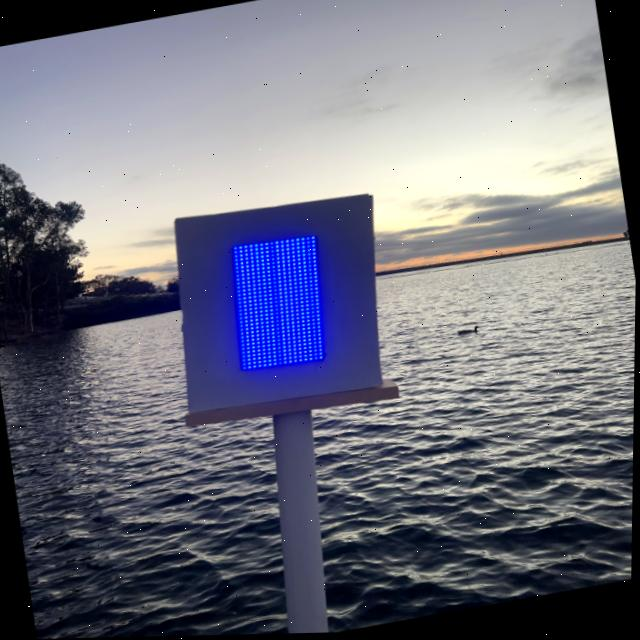led: (190, 203, 351, 399)
